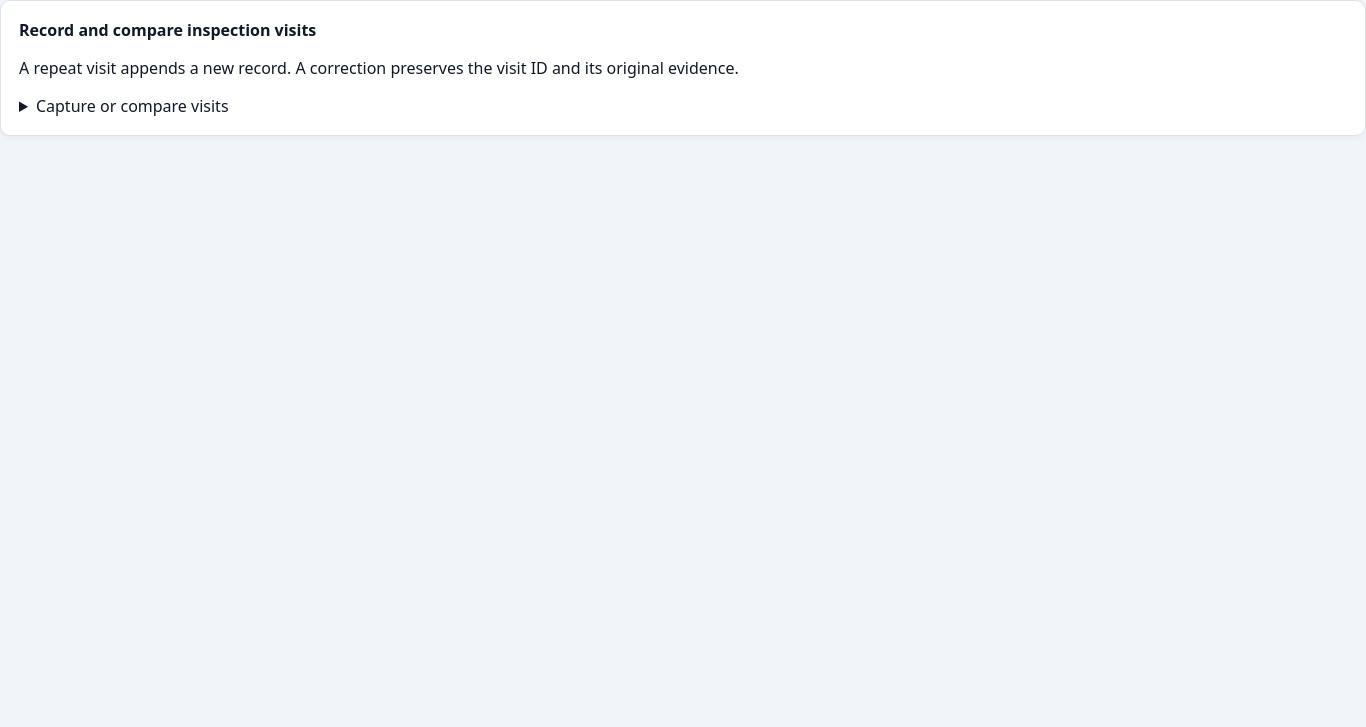
Test: retains discovery controls after a units/history API failure and permits retry
The width and height of the screenshot is (1366, 727).
Later steps or results of the test are not shown.
Click the heading "Capture or compare visits". click: coordinates (132, 106)
box: [36,95,228,117]
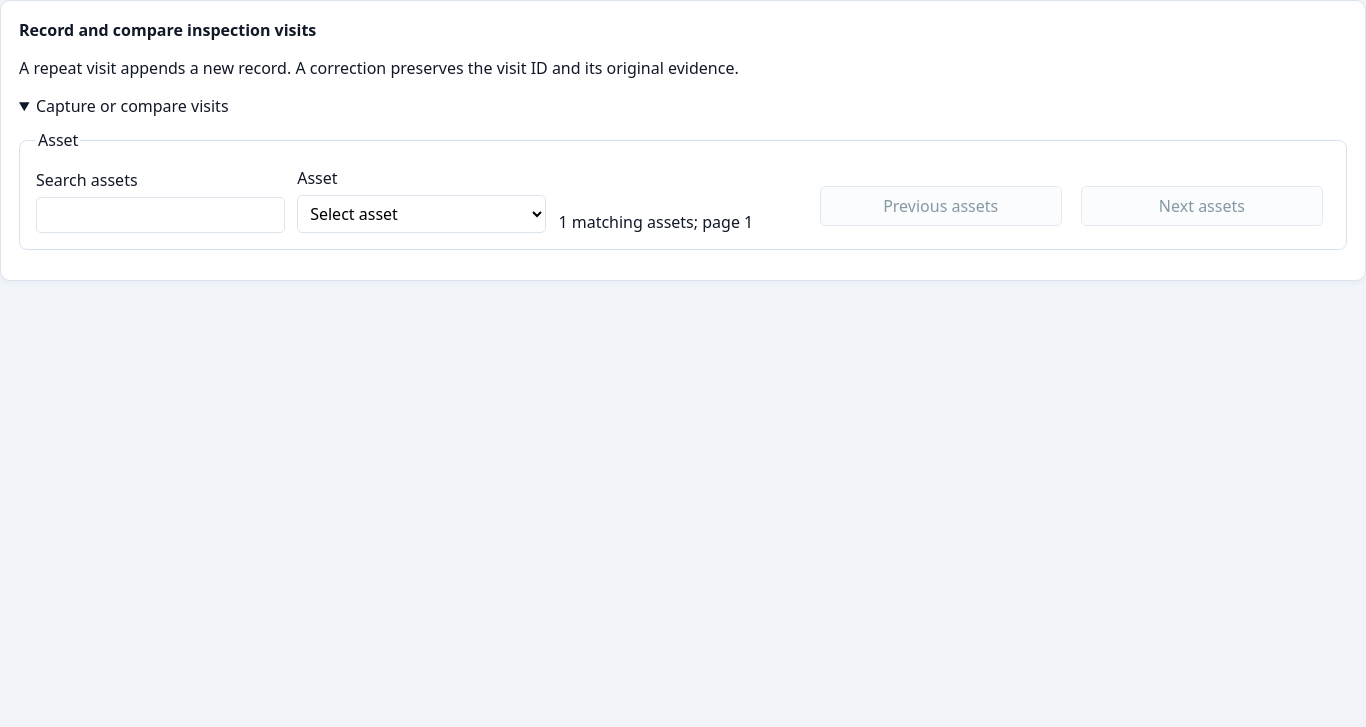
Select "FIX-1" in the dropdown named "Trend asset". click: coordinates (422, 214)
box: [297,195,546,233]
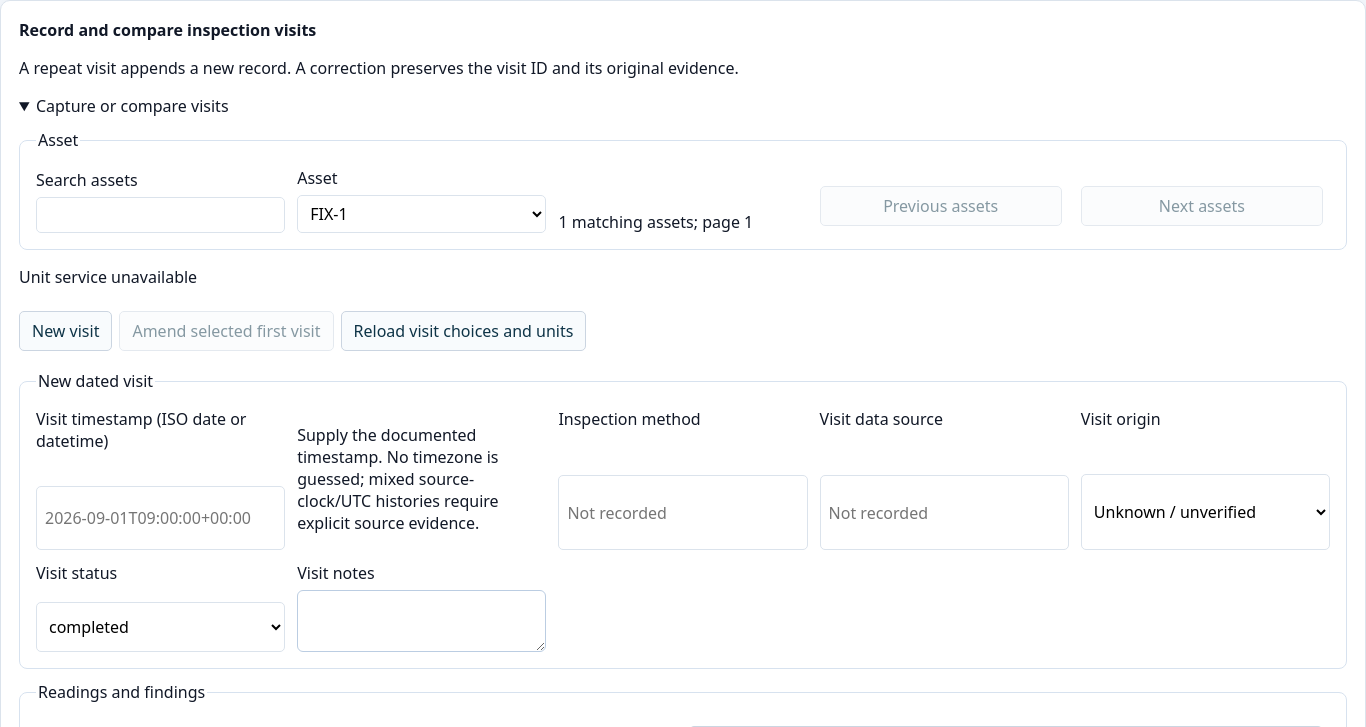
Expected: the message reads "Unit service unavailable", [19,266,197,288]
